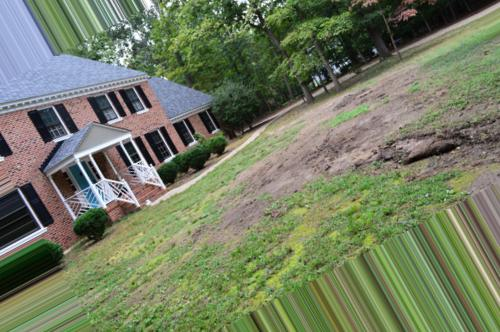patch: (231, 172, 308, 203), (386, 131, 442, 167), (324, 99, 379, 134), (289, 138, 351, 163), (387, 70, 436, 98), (202, 218, 240, 247), (158, 256, 183, 275)
